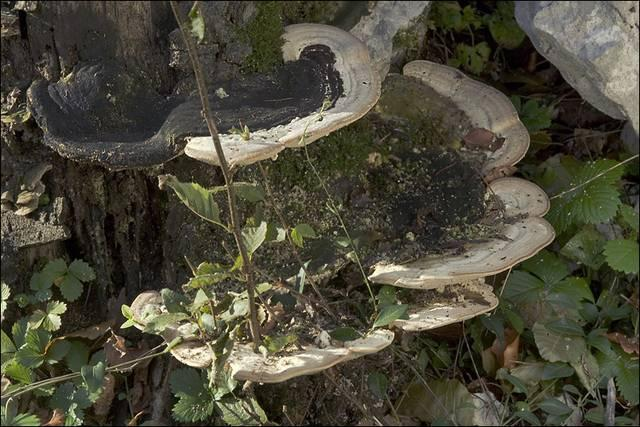Non-edible Mushroom: (146, 16, 549, 427)
